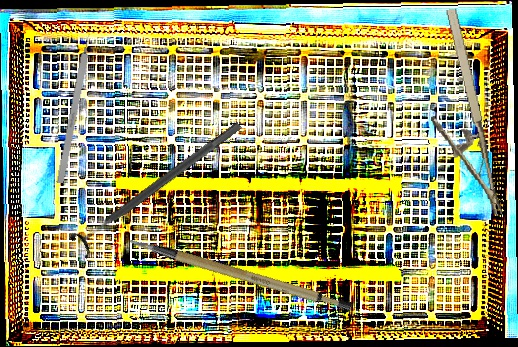Fixation Ring: (67, 112, 250, 260)
Hook Surgical: (56, 24, 95, 184)
Needle Holder: (411, 6, 503, 226)
Scalpel Handle: (125, 202, 356, 341)
